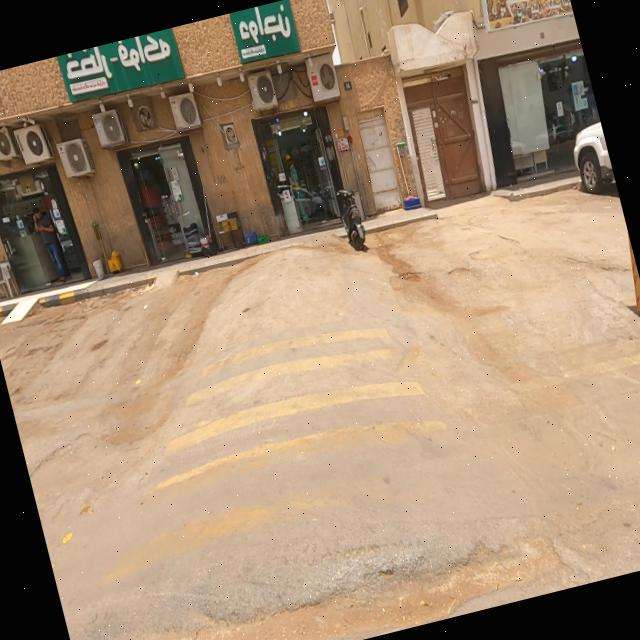Graffiti: (232, 161, 249, 175), (217, 171, 229, 190), (209, 166, 220, 185)
